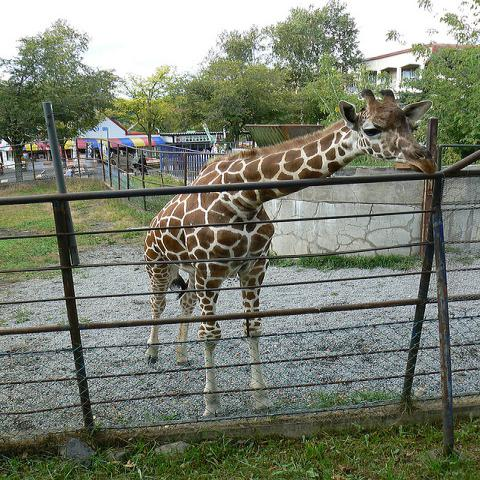car: (239, 141, 257, 149)
